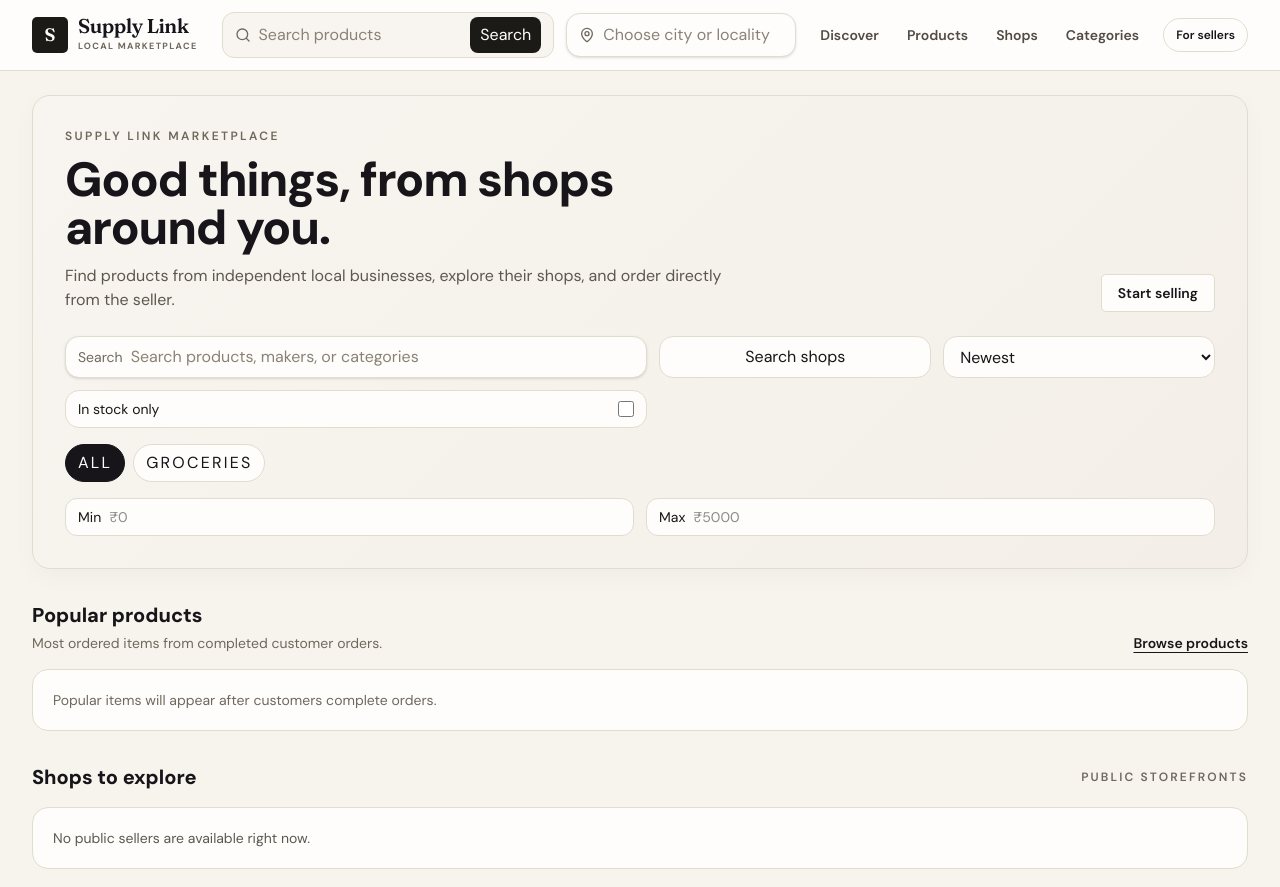
Test: customer marketplace discovery › loads real marketplace categories and filters products by the selected locality
Expected: the button "Groceries" is shown, [133,444,266,482]
Focus the dropdown named "Choose a city or locality". click: (693, 35)
box: [603,15,783,55]
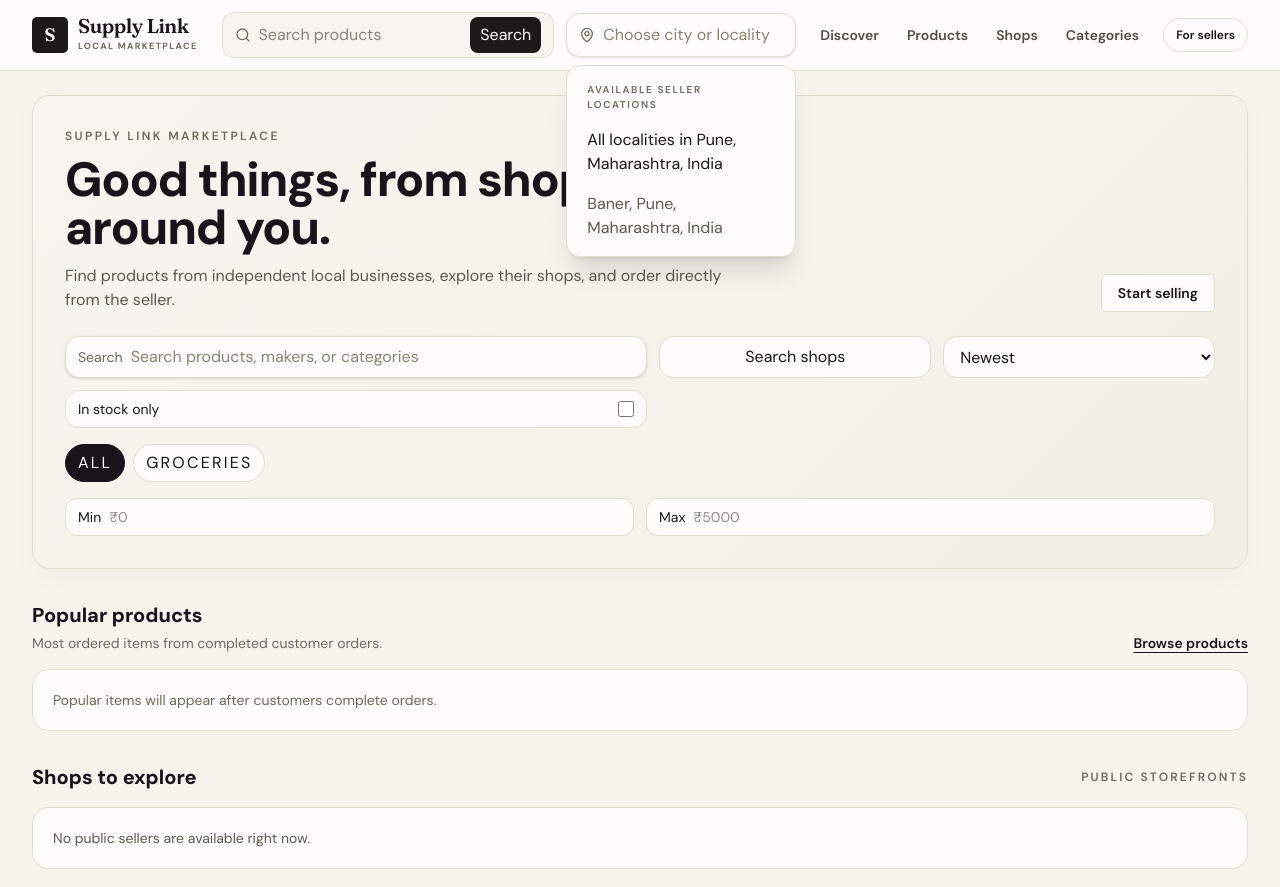
Click the option "Baner, Pune, Maharashtra, India". click: (681, 216)
box: [575,184,787,248]
(page scrolled)
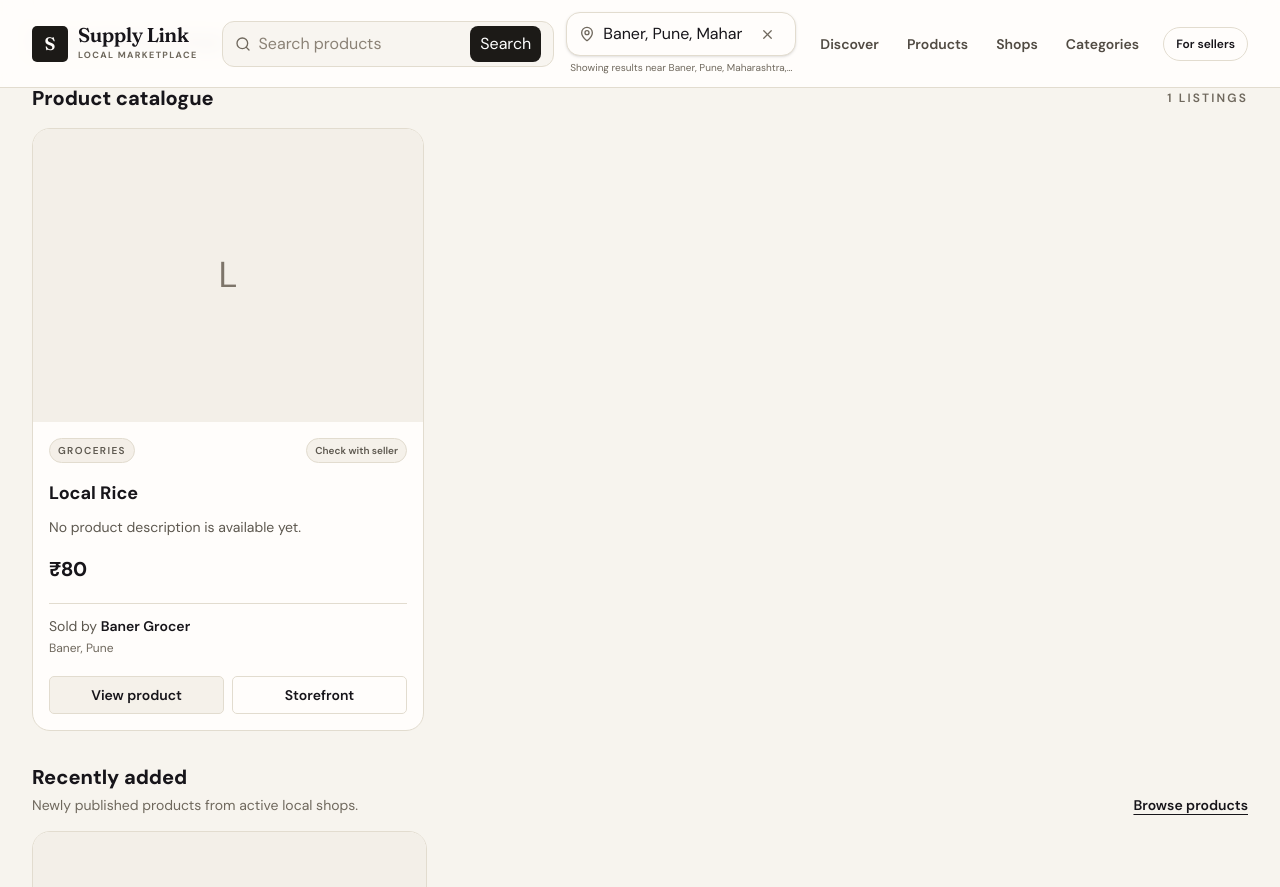
Expected: the text "Check with seller" is shown, [306,438,407,462]
Expected: the text "Showing results near Baner, Pune, Maharashtra, India" is shown, [566,60,796,75]
